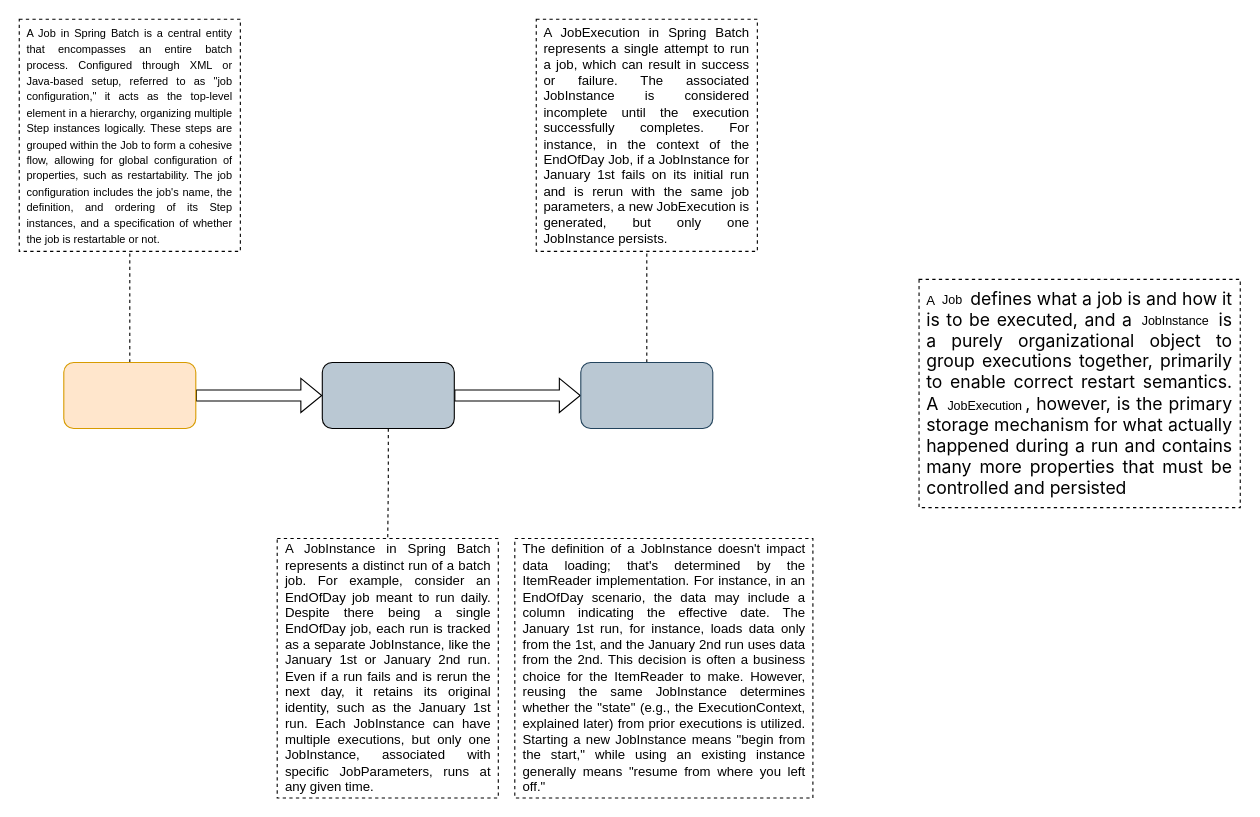
The diagram is 1260 pixels wide and 817 high, and some of its shapes have lost their labels. The shapes that lost their labels are listed below. From the top down, each one's centre as x and y in pixels, then its label:
the point at 129,394: Job
the point at 387,394: JobInstance
the point at 646,394: JobExecution
